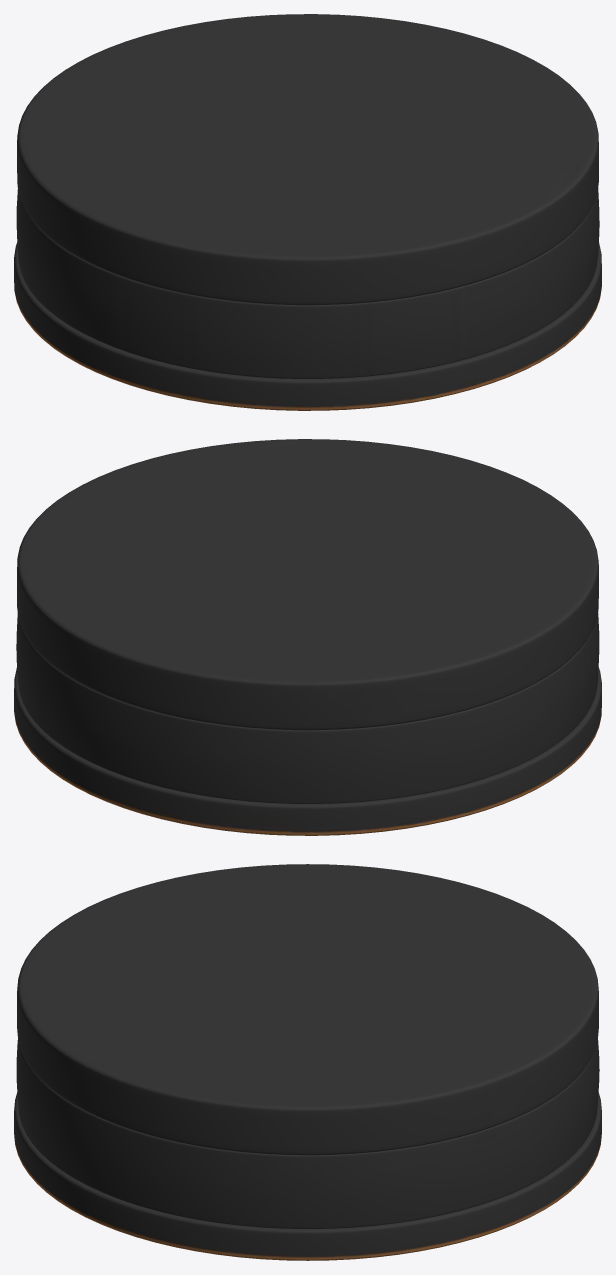
Rendered from abo-B0828DHVWJ.glb.
3 views of the same model, one above another, from view 1: azimuth 30°, elevation 25°; view 2: azimuth 150°, elevation 25°; view 3: azimuth 270°, elevation 25° (orthographic).
Size of the model in its own units: 0.283 by 0.097 by 0.2829.
Materials: 1 (1 with a texture image).
